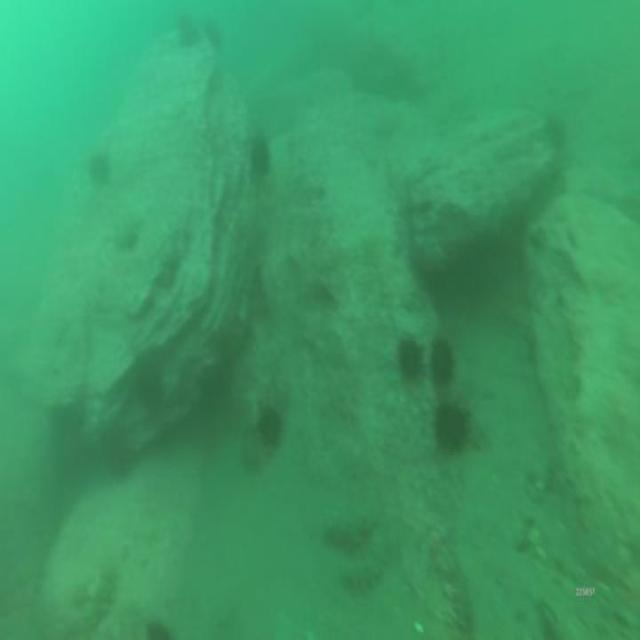echinus: (436, 401, 465, 455), (259, 409, 281, 452), (433, 338, 452, 381), (400, 340, 420, 376), (252, 139, 270, 174), (86, 155, 106, 185)
holothurian: (342, 558, 391, 594), (323, 520, 375, 551)
